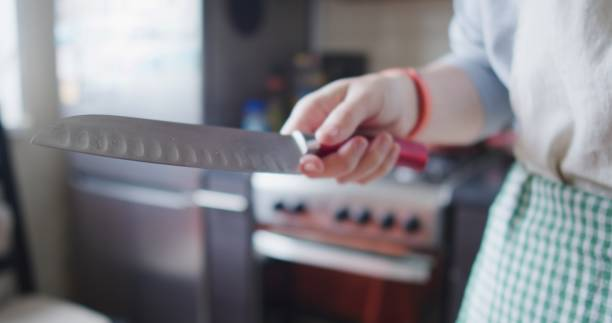knife: (28, 114, 430, 175)
